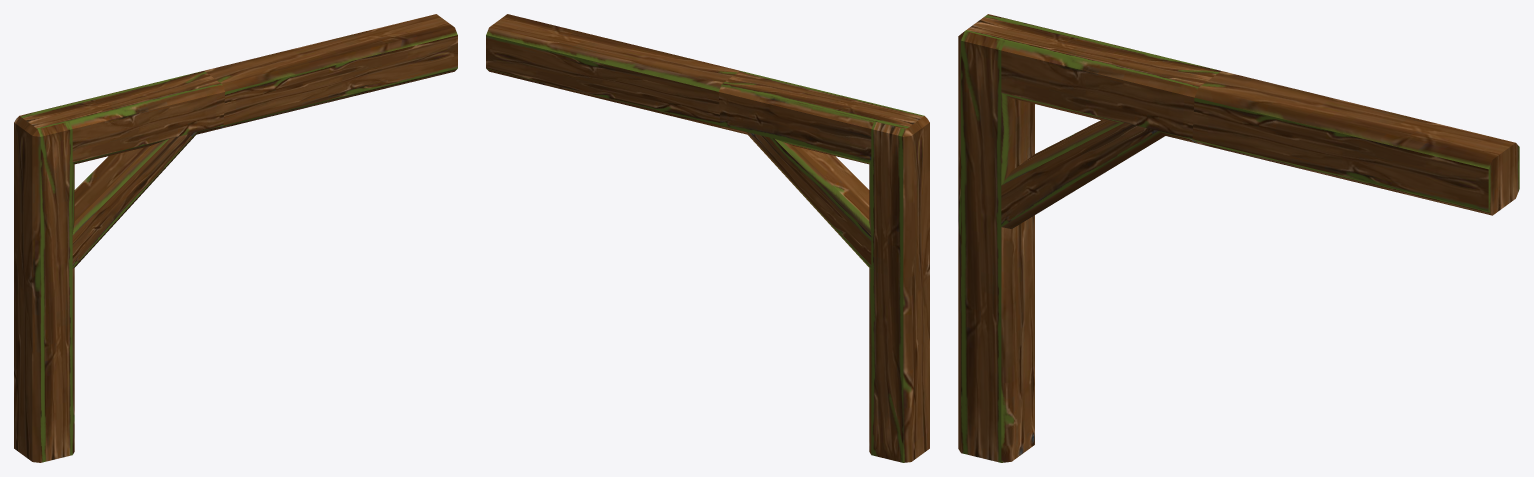
The model's file is WoodenPillar.fbx.
3 renders of one model, left to right at view 1: azimuth 30°, elevation 25°; view 2: azimuth 150°, elevation 25°; view 3: azimuth 330°, elevation 25°, orthographic. The views are drawn at different scales.
Visible parts, largest first — view 1: pCube33, pCube34; view 2: pCube33, pCube34; view 3: pCube33, pCube34.
Boxes of the visible parts, bbox=[...] form: pCube33: bbox=[14, 71, 225, 462]; pCube34: bbox=[204, 14, 457, 128]; pCube33: bbox=[718, 71, 929, 462]; pCube34: bbox=[486, 14, 739, 128]; pCube33: bbox=[958, 14, 1220, 462]; pCube34: bbox=[1192, 71, 1519, 215].
Size of the model in its own units: 400 by 300 by 40.
